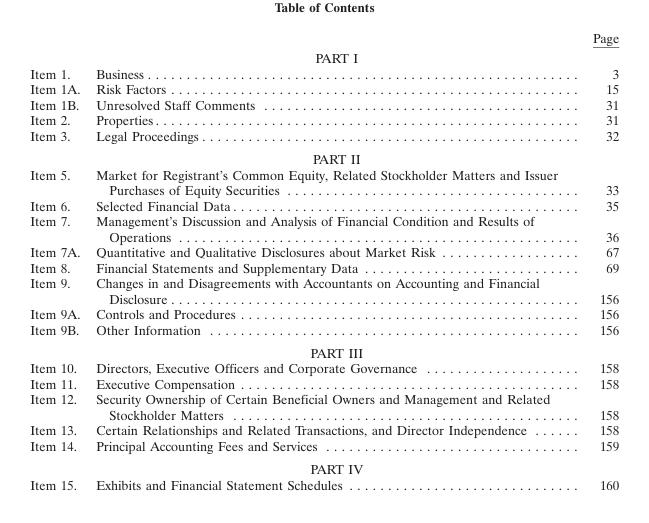table: (29, 29, 618, 492)
table column: (87, 29, 574, 492), (29, 29, 87, 492), (574, 29, 618, 492)
table column header: (29, 29, 618, 65)
table row: (29, 29, 618, 65), (29, 166, 618, 197), (29, 212, 618, 243), (29, 274, 618, 305), (29, 391, 618, 422), (29, 146, 618, 166), (29, 340, 618, 360), (29, 437, 618, 457), (29, 127, 618, 146), (29, 321, 618, 340), (29, 457, 618, 476), (29, 65, 618, 81), (29, 96, 618, 112), (29, 243, 618, 259), (29, 305, 618, 321), (29, 375, 618, 391), (29, 476, 618, 492), (29, 81, 618, 96), (29, 112, 618, 127), (29, 197, 618, 212), (29, 259, 618, 274), (29, 360, 618, 375), (29, 422, 618, 437)
table spanning cell: (29, 127, 87, 166), (29, 321, 87, 360), (29, 437, 87, 476)
